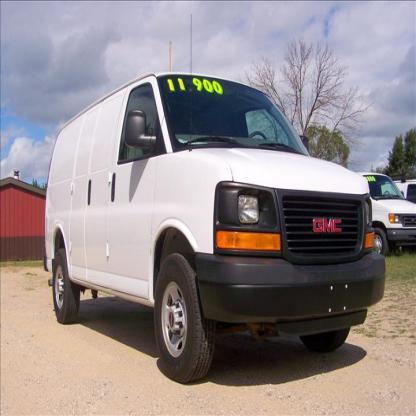Vehicle: (43, 70, 390, 387)
